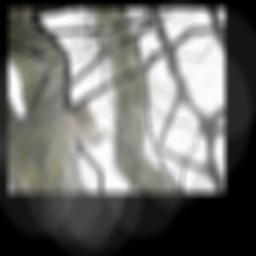Cuckoo: (55, 93, 113, 155)
